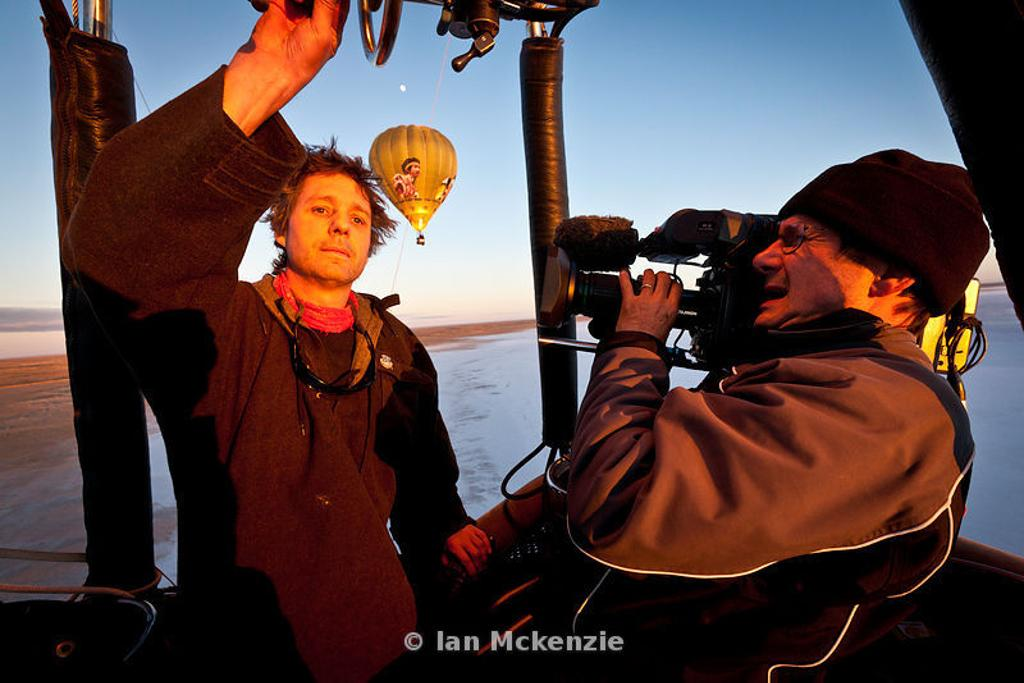face: (754, 202, 870, 324), (290, 172, 370, 276)
